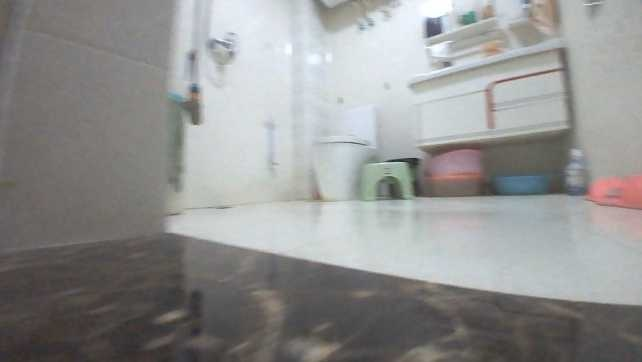plastic_stool: (359, 160, 414, 198)
toilet: (309, 102, 377, 201)
washstand: (405, 39, 578, 154)
